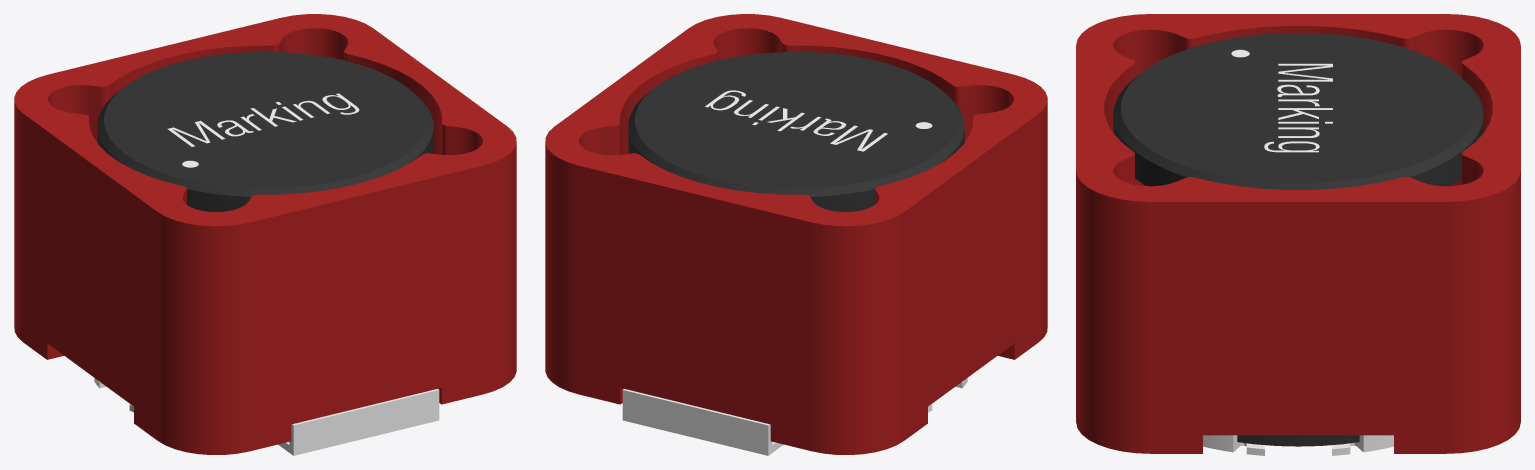
Rendered from WE-PF SMT EMI Suppression Power Ferrite.gltf.
The picture shows the model from 3 angles, left to right: view 1: azimuth 30°, elevation 25°; view 2: azimuth 150°, elevation 25°; view 3: azimuth 270°, elevation 25°; orthographic projection. The views are drawn at different scales.
Visible parts, largest first — view 1: Schale, Kern001, Pin; view 2: Schale, Kern001, Pin001; view 3: Schale, Kern001, Pin, Pin001.
Part boxes in pixels (box(x1,y1,x2,y2)): Schale: box(14, 14, 516, 454); Kern001: box(97, 52, 433, 211); Pin: box(129, 389, 439, 455); Schale: box(545, 14, 1047, 454); Kern001: box(628, 52, 964, 211); Pin001: box(622, 389, 932, 455); Schale: box(1076, 14, 1520, 453); Kern001: box(1113, 32, 1483, 446); Pin: box(1203, 435, 1264, 455); Pin001: box(1332, 435, 1393, 455).
Size of the model in its own units: 0.012 by 0.008 by 0.012.
